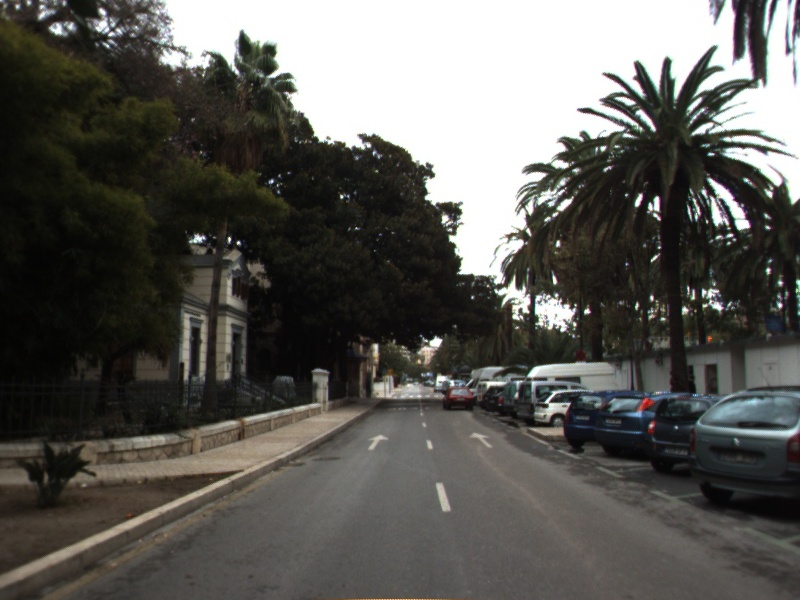STRAIGHT: (467, 430, 496, 450), (365, 433, 392, 452)
